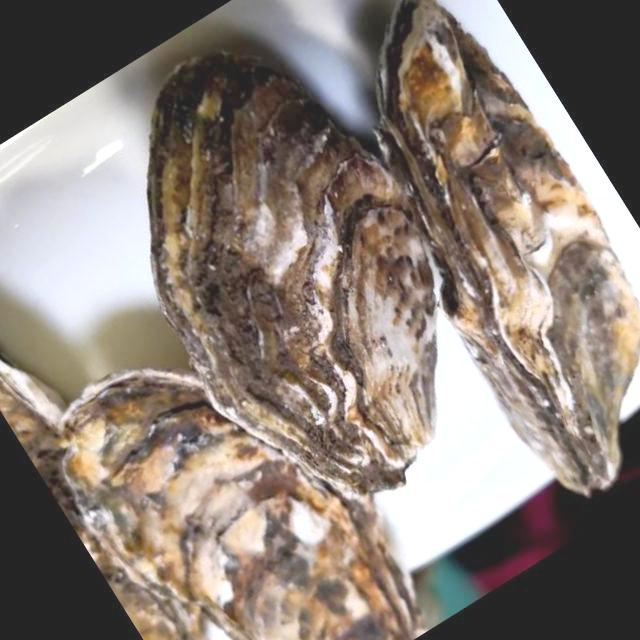Oyster-Closed: (147, 36, 436, 492), (373, 0, 639, 494), (54, 369, 417, 640)
